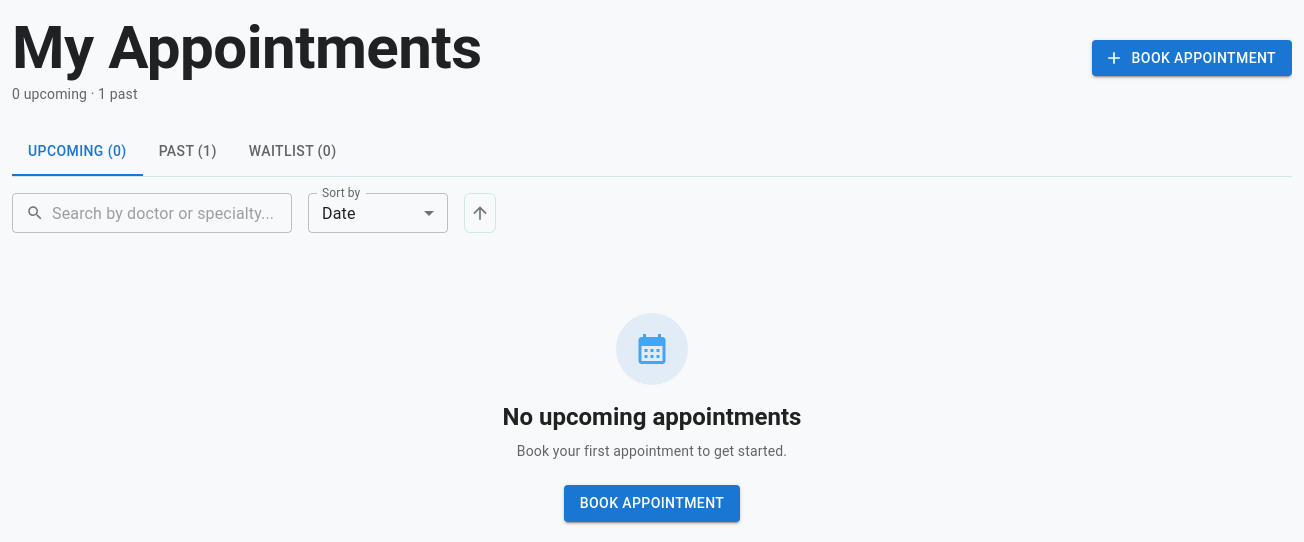
Test: PatientAppointments — review submission (P1-06) › shows a "Review submitted" chip, not a button, when has_review is already true
This screenshot has width=1304, height=542.
Step 1. Click the tab "Past (1)" → (188, 152), box [143,128,233,176]
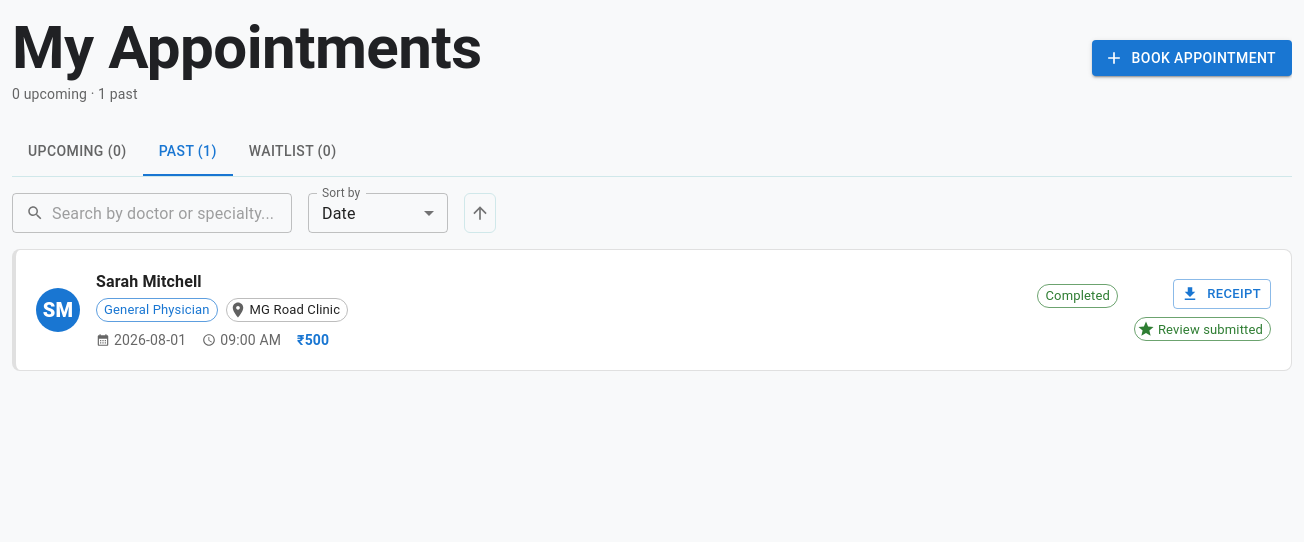
Expected: the text "Review submitted" is shown, [1151,318,1270,340]
